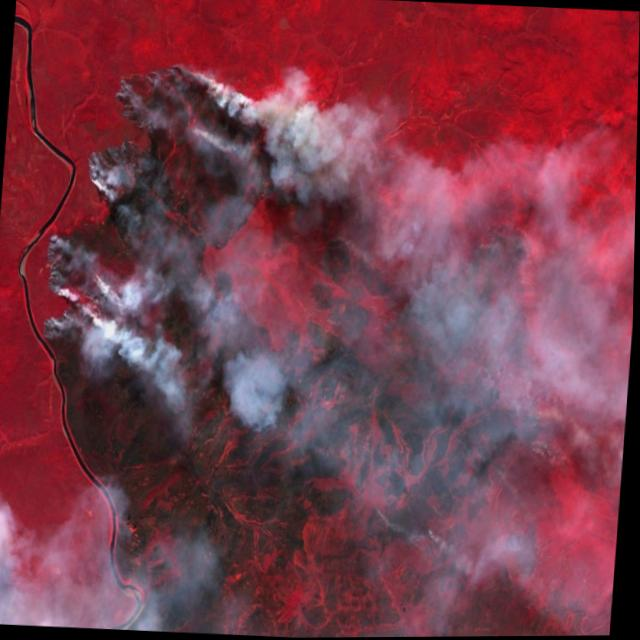fire: (20, 48, 586, 572)
